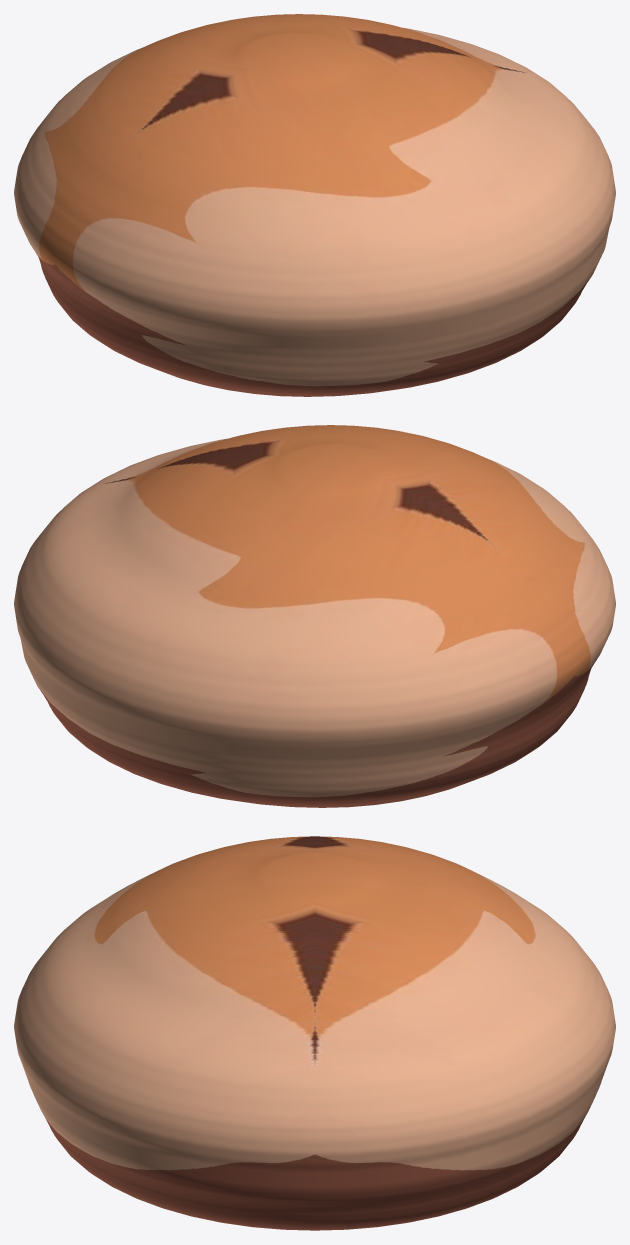
Rendered from flat_boulder.glb.
3 renders of one model, top to bottom at view 1: azimuth 30°, elevation 25°; view 2: azimuth 150°, elevation 25°; view 3: azimuth 270°, elevation 25°, orthographic.
Parts seen in each view (by area): view 1: flat_boulder; view 2: flat_boulder; view 3: flat_boulder.
Boxes of the visible parts, box(x1,y1,x2,y2) form: flat_boulder: box(14, 14, 615, 396); flat_boulder: box(14, 425, 615, 807); flat_boulder: box(14, 836, 615, 1230).
Size of the model in its own units: 0.9994 by 0.5114 by 0.9994.
1 material, 1 textured.
